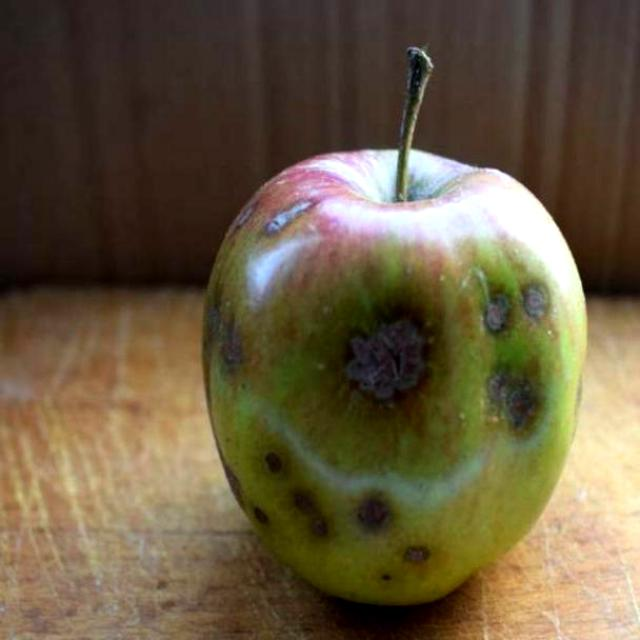SCAB: (197, 118, 604, 617)
